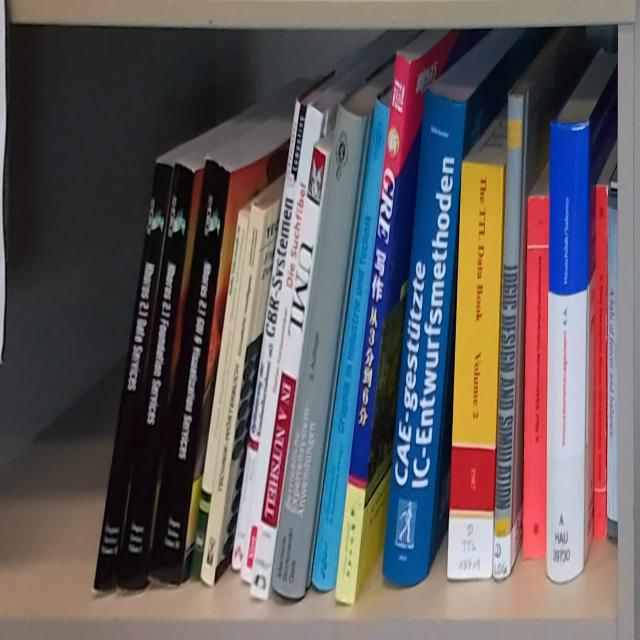Book Spine: (272, 100, 368, 601), (382, 90, 467, 588), (336, 54, 411, 606), (240, 103, 324, 586), (310, 97, 391, 591), (231, 96, 307, 571), (250, 143, 328, 600), (149, 156, 232, 585), (94, 161, 175, 590), (117, 163, 194, 593), (199, 205, 267, 588), (447, 162, 505, 580), (191, 212, 249, 577), (546, 118, 590, 583), (493, 94, 525, 583), (524, 198, 551, 560), (593, 182, 609, 541), (606, 191, 618, 541)
